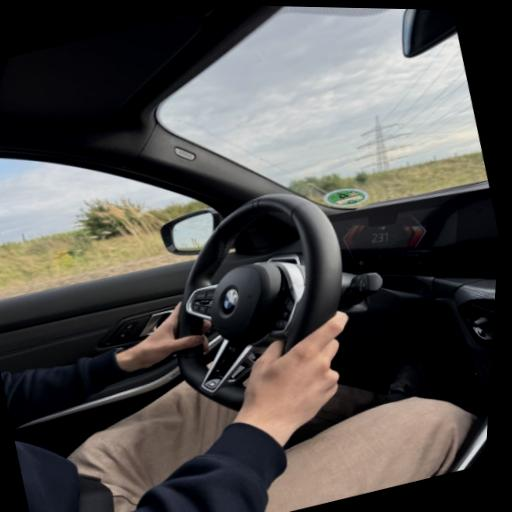Hands-on-the-Wheel: (201, 299, 401, 451), (92, 263, 253, 387)
